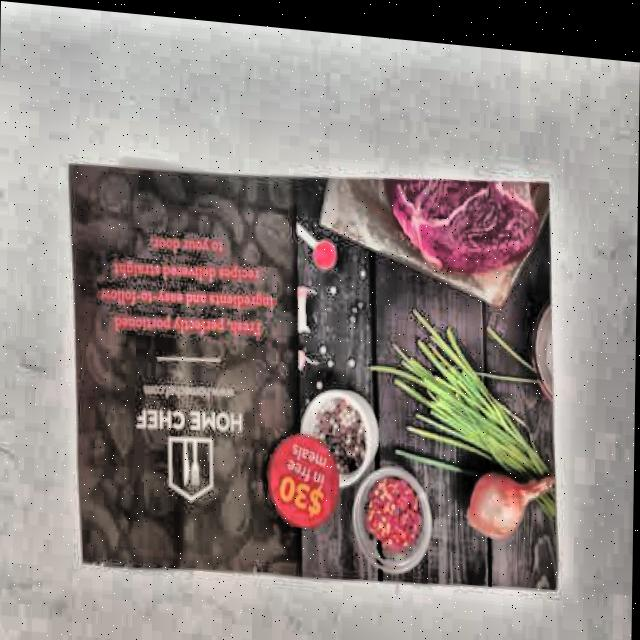paper: (60, 140, 565, 614)
